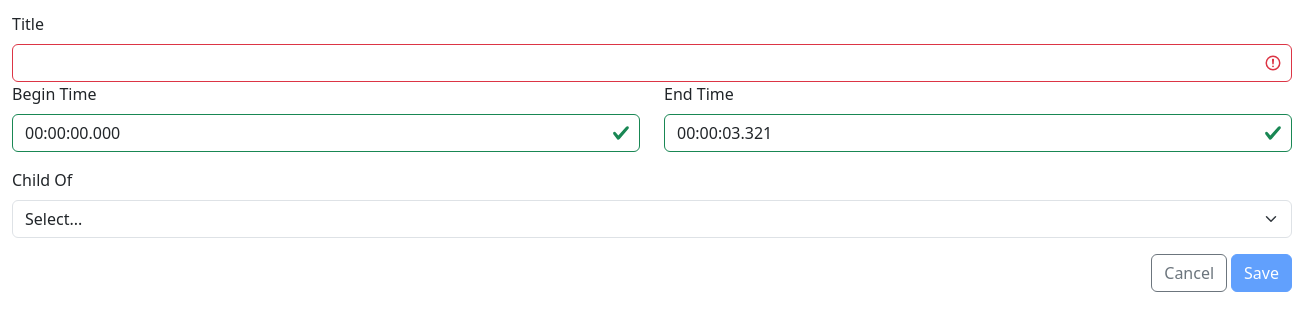
Scenario: Timespan component › flat (non-nested) timespans › and validates › begin and end times › when end time is changed to contain within an existing timespan
The image size is (1304, 313).
Type "New timespan" into the field labelled "Title" at (652, 63), box [12, 44, 1292, 82]
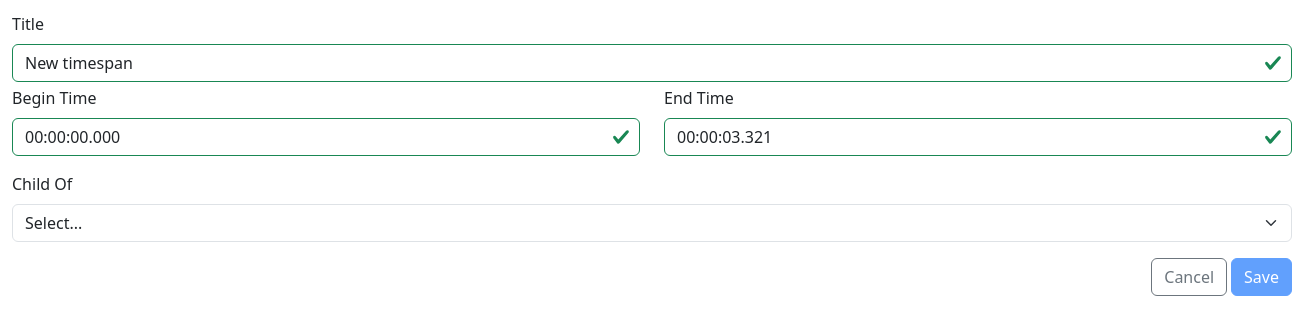
Select "Sub-Segment 1.1" in the dropdown labelled "Child Of" at (652, 223), box [12, 204, 1292, 242]
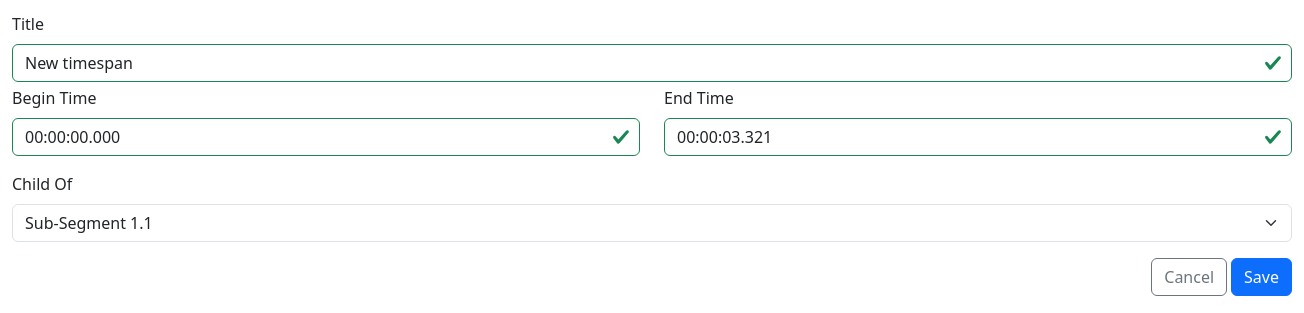
Replace the text in the field labelled "End Time" with "00:00:04.001" at (978, 137), box [664, 118, 1292, 156]
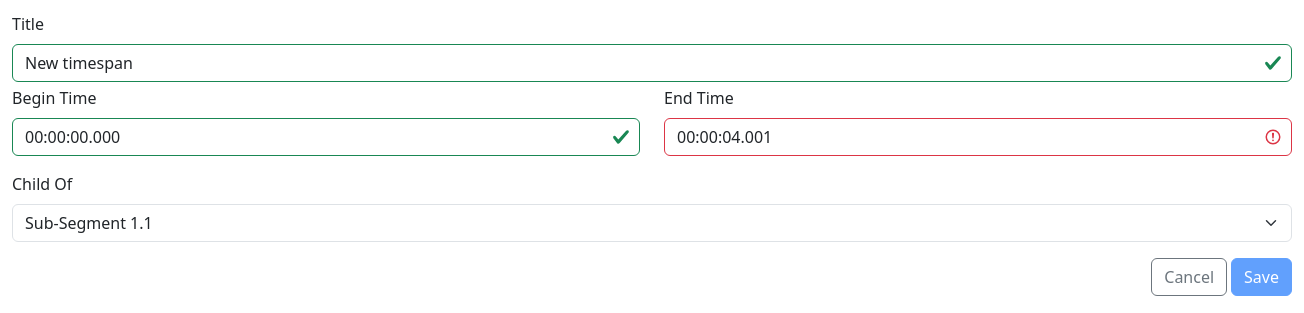
Now the button with test id "timespan-form-save-button" is disabled, box [1231, 258, 1292, 296]
